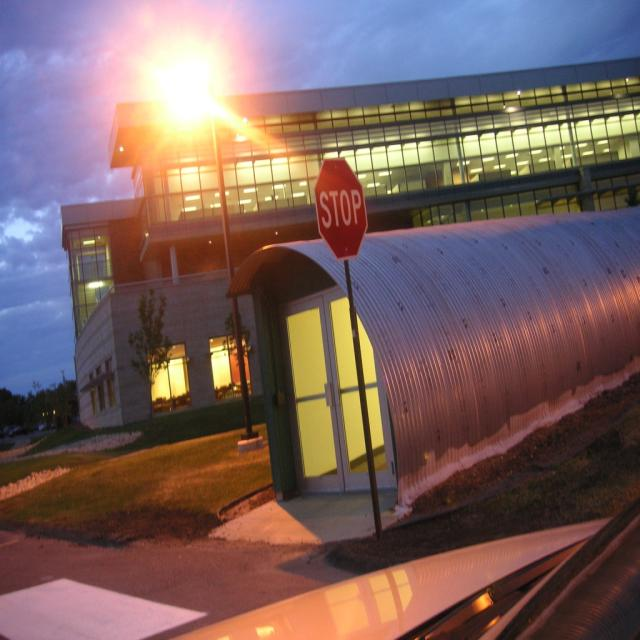Stop-sign: (312, 156, 370, 262)
